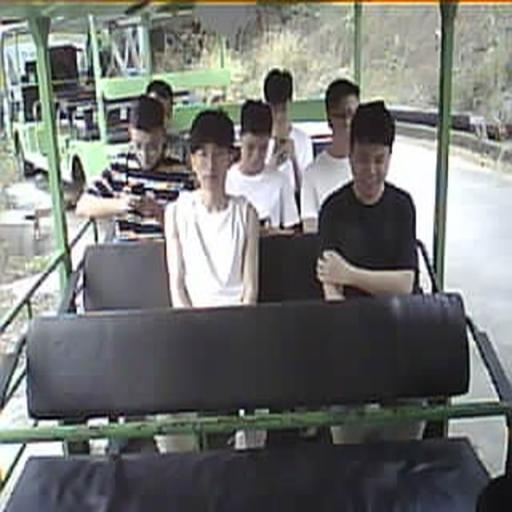persona: (315, 99, 419, 302), (163, 108, 261, 308), (75, 95, 196, 241), (223, 99, 301, 232), (300, 78, 361, 233), (262, 67, 314, 191), (143, 81, 192, 163)
